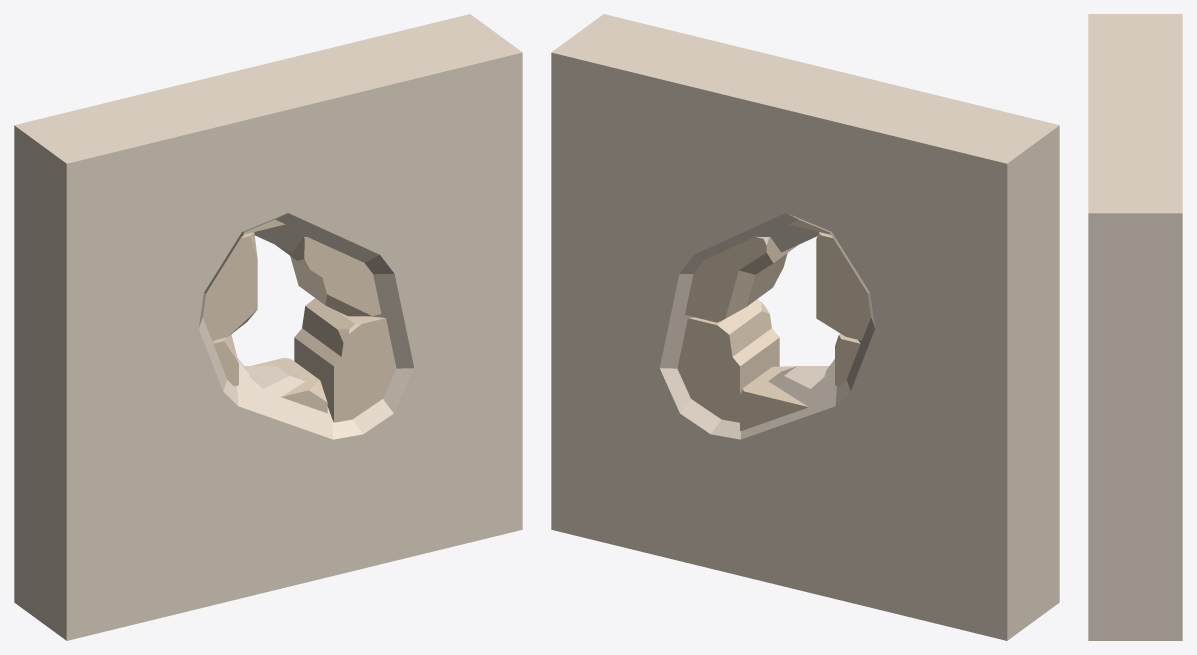
File: temple_Wall_Ruined_Full_2.glb
The picture shows the model from 3 angles, left to right: view 1: azimuth 30°, elevation 25°; view 2: azimuth 150°, elevation 25°; view 3: azimuth 270°, elevation 25°; orthographic projection. The views are drawn at different scales.
Parts seen in each view (by area): view 1: object1; view 2: object1; view 3: object1.
Boxes of the visible parts, x1,y1,x2,y2 form: object1: [14, 14, 522, 640]; object1: [551, 14, 1059, 640]; object1: [1088, 14, 1182, 640].
Bounding box in the file's own units: 1 × 1 × 0.2.
